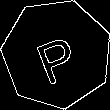P_N: (30, 24, 83, 84)
